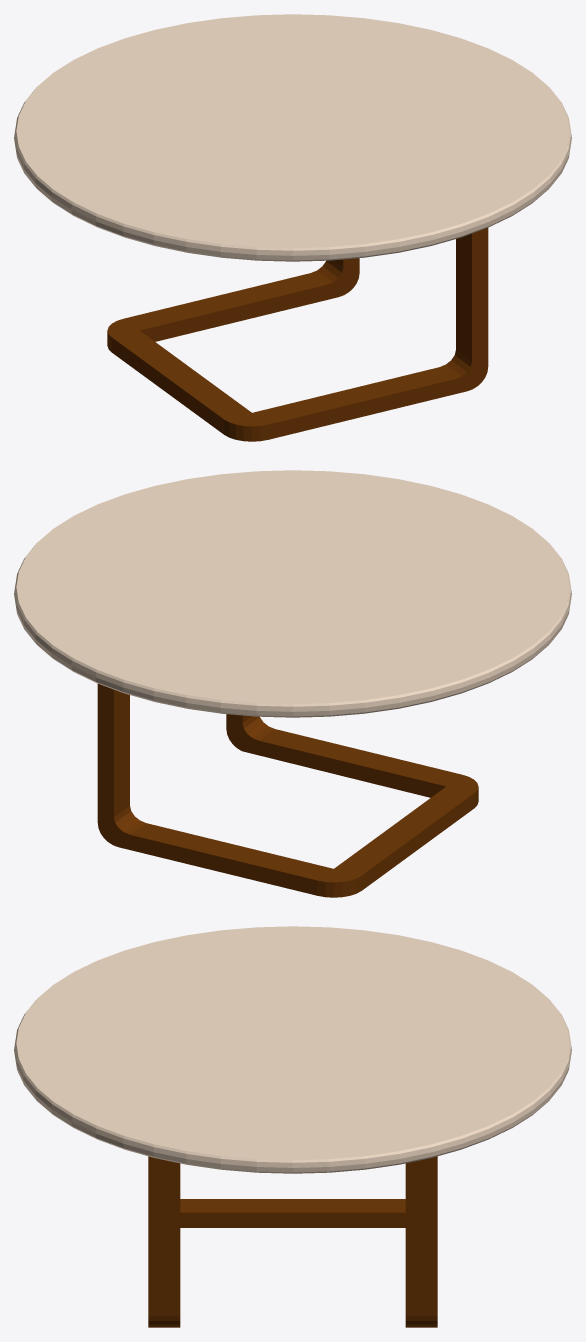
Rendered from table.glb.
The picture shows the model from 3 angles, top to bottom: view 1: azimuth 30°, elevation 25°; view 2: azimuth 150°, elevation 25°; view 3: azimuth 270°, elevation 25°; orthographic projection.
Parts seen in each view (by area): view 1: Plane, Cube.002; view 2: Plane, Cube.002; view 3: Plane, Cube.002.
Part boxes in pixels (<box>): Plane: <box>14,14,571,261</box>; Cube.002: <box>107,228,488,441</box>; Plane: <box>14,470,571,717</box>; Cube.002: <box>97,684,478,897</box>; Plane: <box>14,926,571,1173</box>; Cube.002: <box>148,1156,437,1327</box>.
Size of the model in its own units: 3.47 by 1.59 by 3.47.
5 materials, 5 textured.
